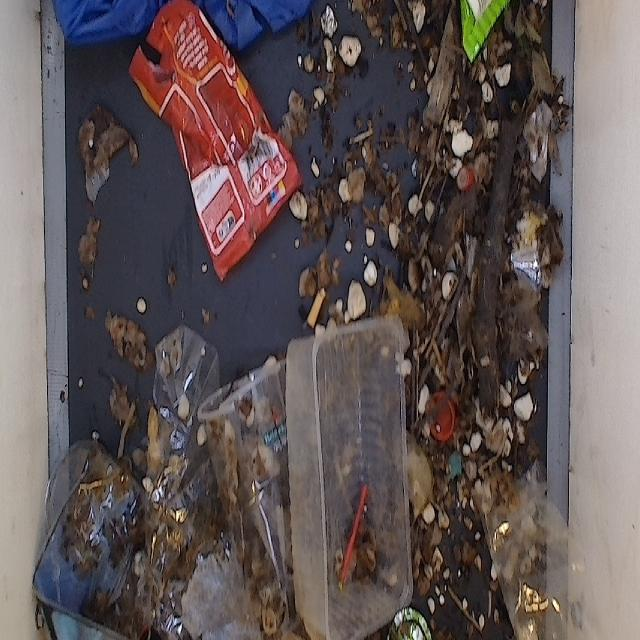caps_and_lids: (422, 375, 461, 455), (448, 157, 478, 203)
food_packaging: (280, 328, 430, 640)
food_wrapping: (112, 0, 305, 293), (43, 410, 159, 640), (448, 3, 522, 65)
plastic_cups: (204, 349, 314, 640)
plastic_films: (139, 322, 242, 640), (463, 432, 583, 640)
